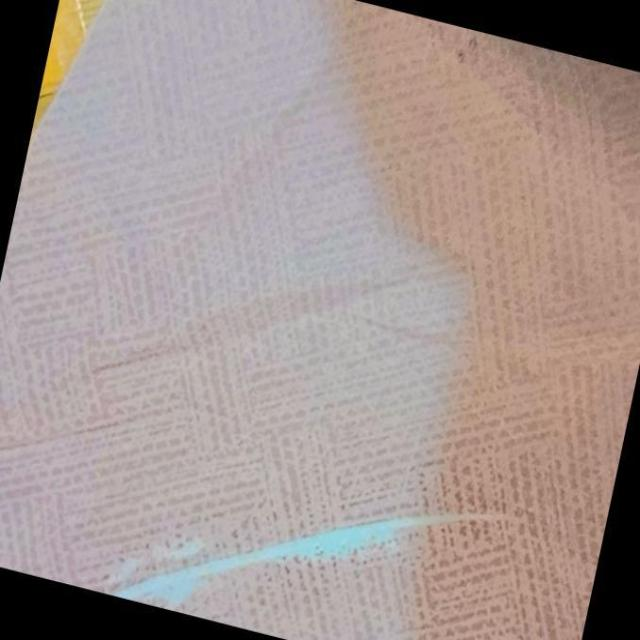selvet: (271, 455, 531, 619), (86, 508, 272, 632)
